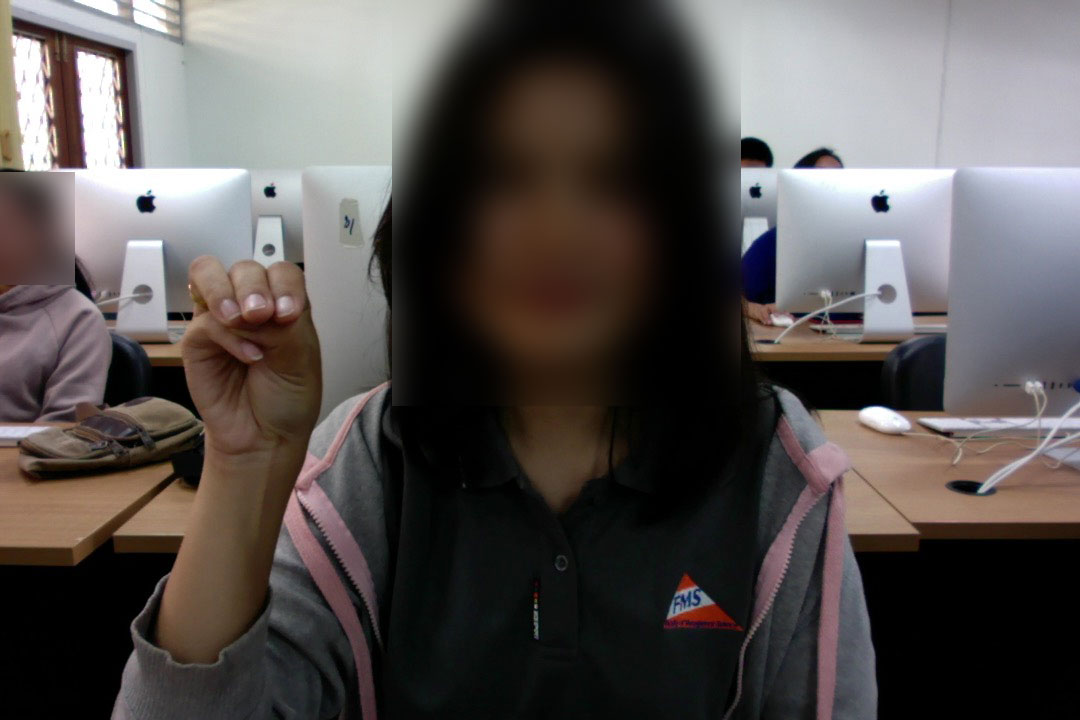mor: (174, 248, 327, 466)
